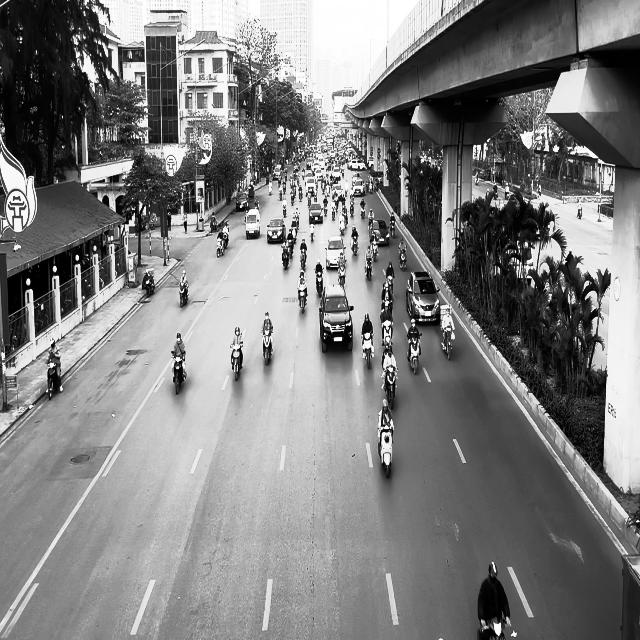car: (318, 284, 354, 352), (405, 270, 440, 323), (324, 235, 346, 269), (370, 220, 390, 246), (267, 217, 285, 243), (245, 208, 260, 238), (308, 202, 324, 223), (235, 192, 249, 210)
motorbike: (378, 420, 393, 478), (382, 366, 398, 410), (171, 350, 186, 395), (46, 359, 62, 400), (407, 334, 421, 375), (230, 343, 243, 381), (361, 333, 374, 369), (441, 327, 454, 360), (381, 319, 393, 352), (262, 328, 272, 365), (144, 270, 154, 297), (298, 287, 307, 313), (179, 283, 188, 307), (316, 269, 324, 296), (398, 246, 407, 270), (217, 234, 226, 257), (338, 261, 346, 286), (365, 256, 372, 280), (351, 233, 358, 256)
